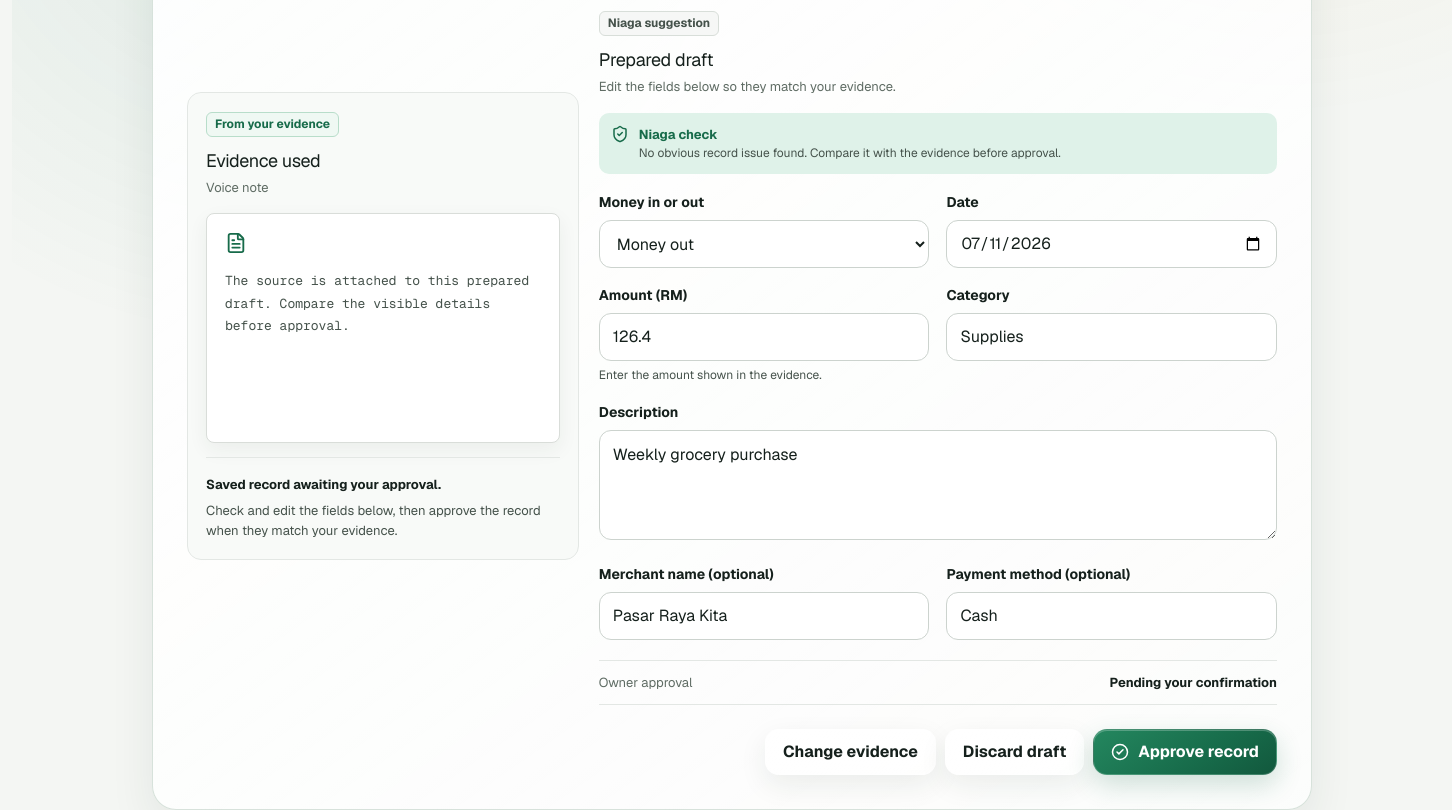
TransactionCaptureFlow › loads a saved pending record into the editable approval flow
(page scrolled)
Check: the number field labelled "Amount (RM)" holds "126.4", box left=599, top=313, right=929, bottom=361
Check: the text box labelled "Description" holds "Weekly grocery purchase", box left=599, top=430, right=1277, bottom=540
Click the button "Approve record" at (1185, 752), box left=1093, top=729, right=1277, bottom=775
(page scrolled)
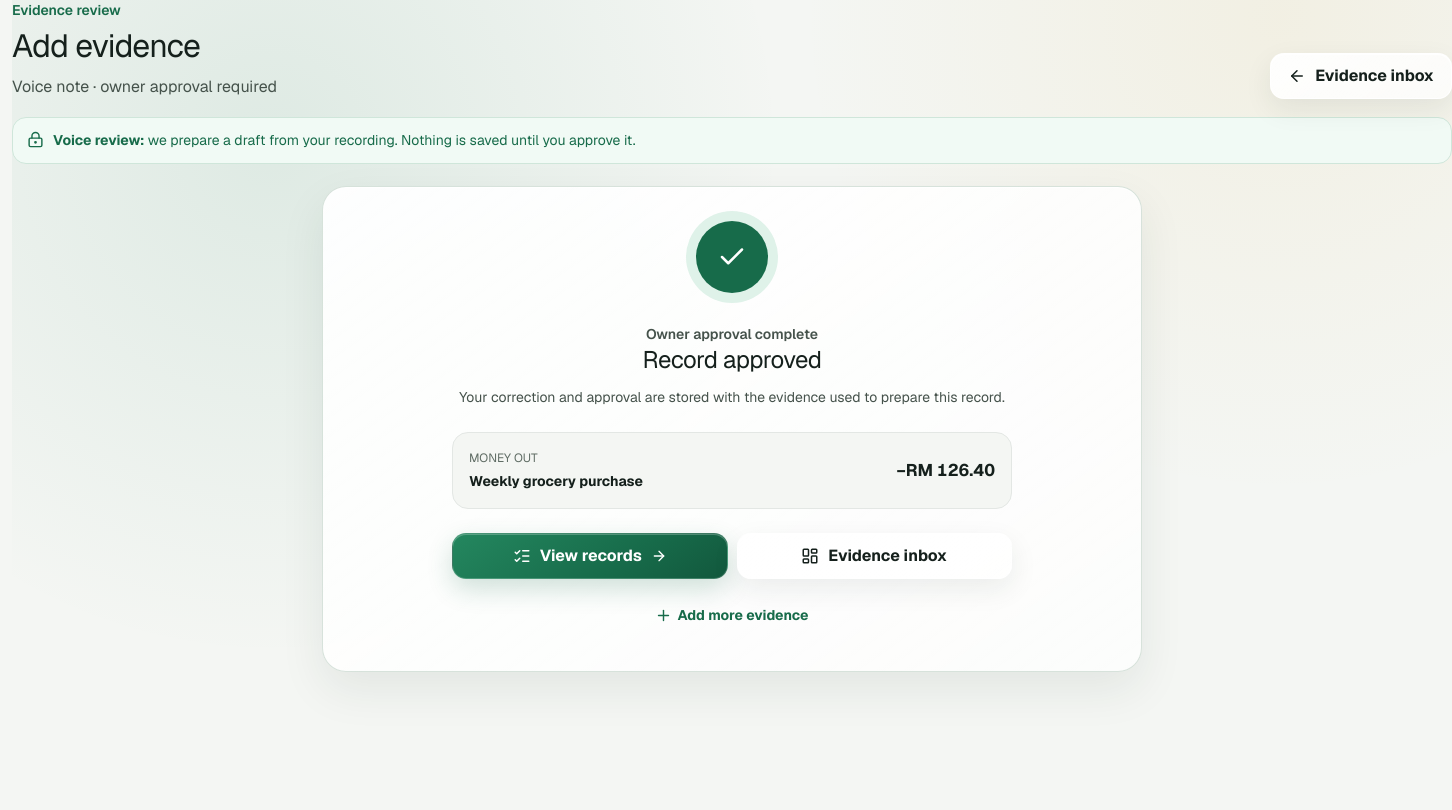
Check: the heading "Record approved" is shown, box left=642, top=346, right=821, bottom=375
